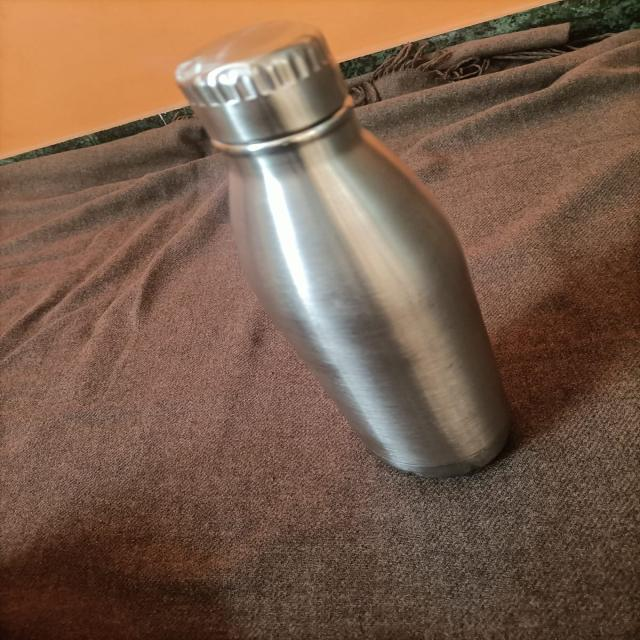bottle: (196, 20, 504, 521)
